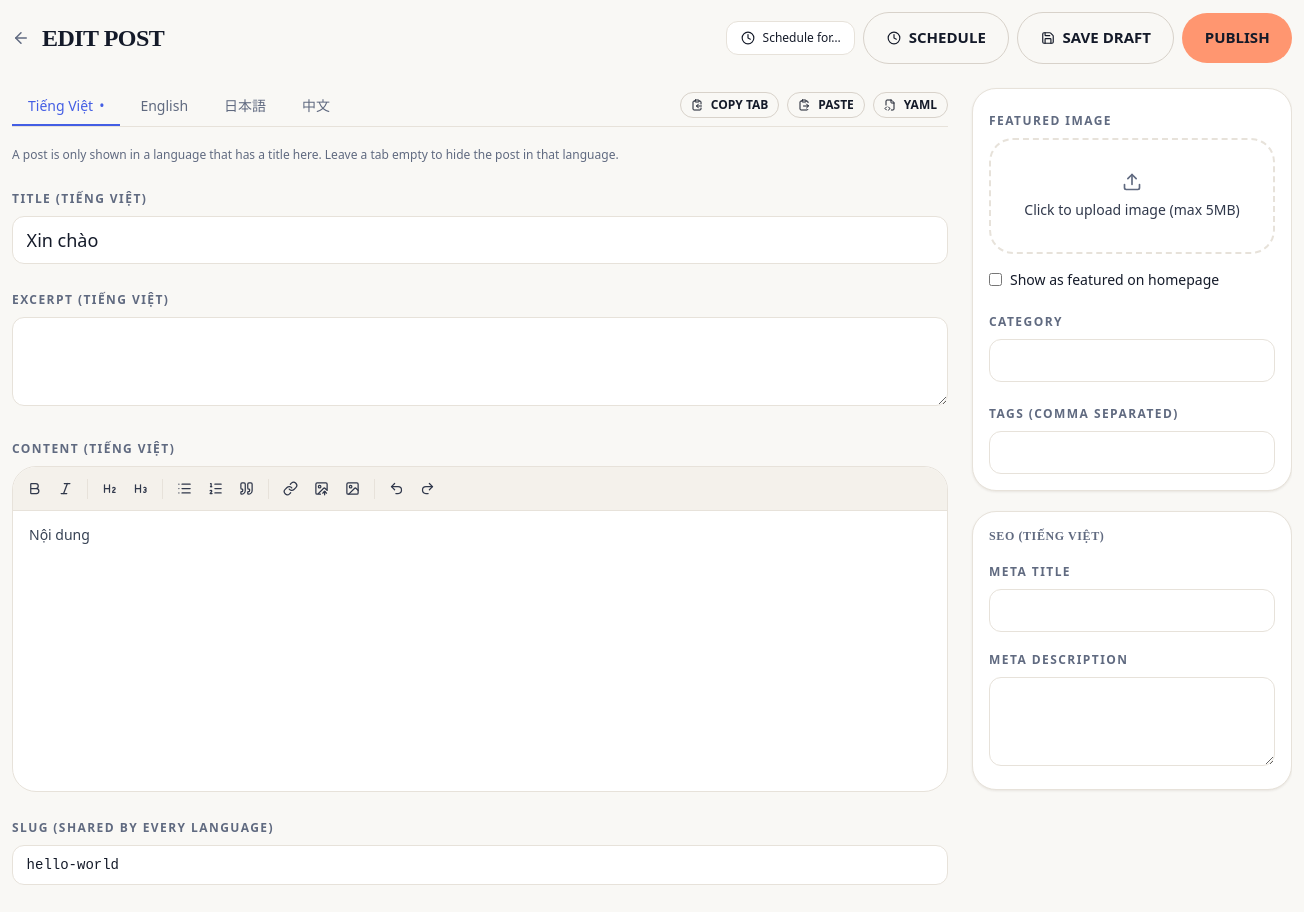
PostEditor scheduling › fills the picker from a quick-pick preset
This screenshot has width=1304, height=912.
Expected: the field labelled "Title (Tiếng Việt)" holds "Xin chào", [12,216,948,264]
What coordinates should you click on to do the following:
click the button with aria-label "choose publish time"
I would click on:
 (791, 38)
Its box is [726,21,855,55].
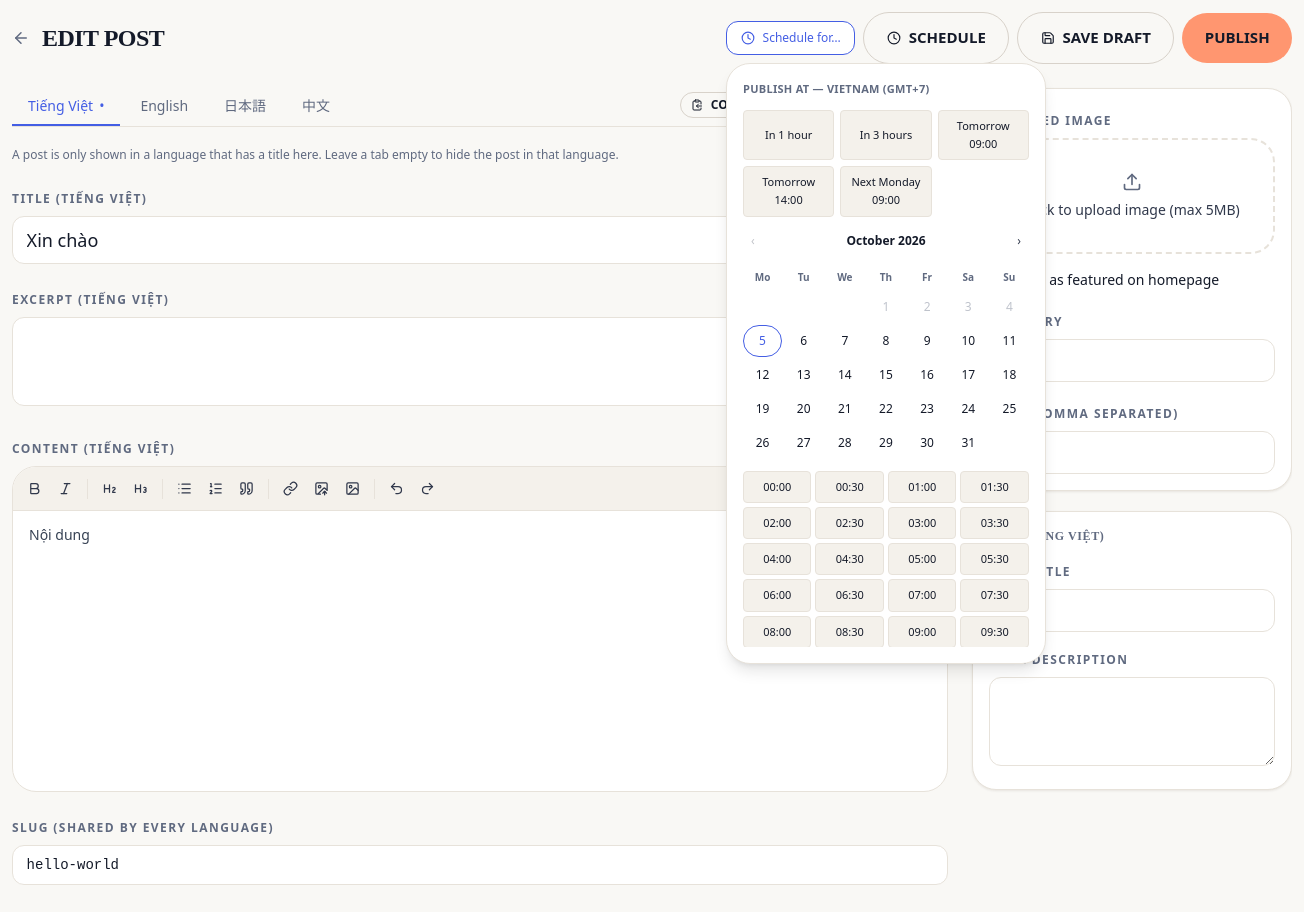
What coordinates should you click on to do the following:
click the button "Tomorrow 09:00"
I would click on:
 (983, 135)
Its box is [938,110,1029,160].
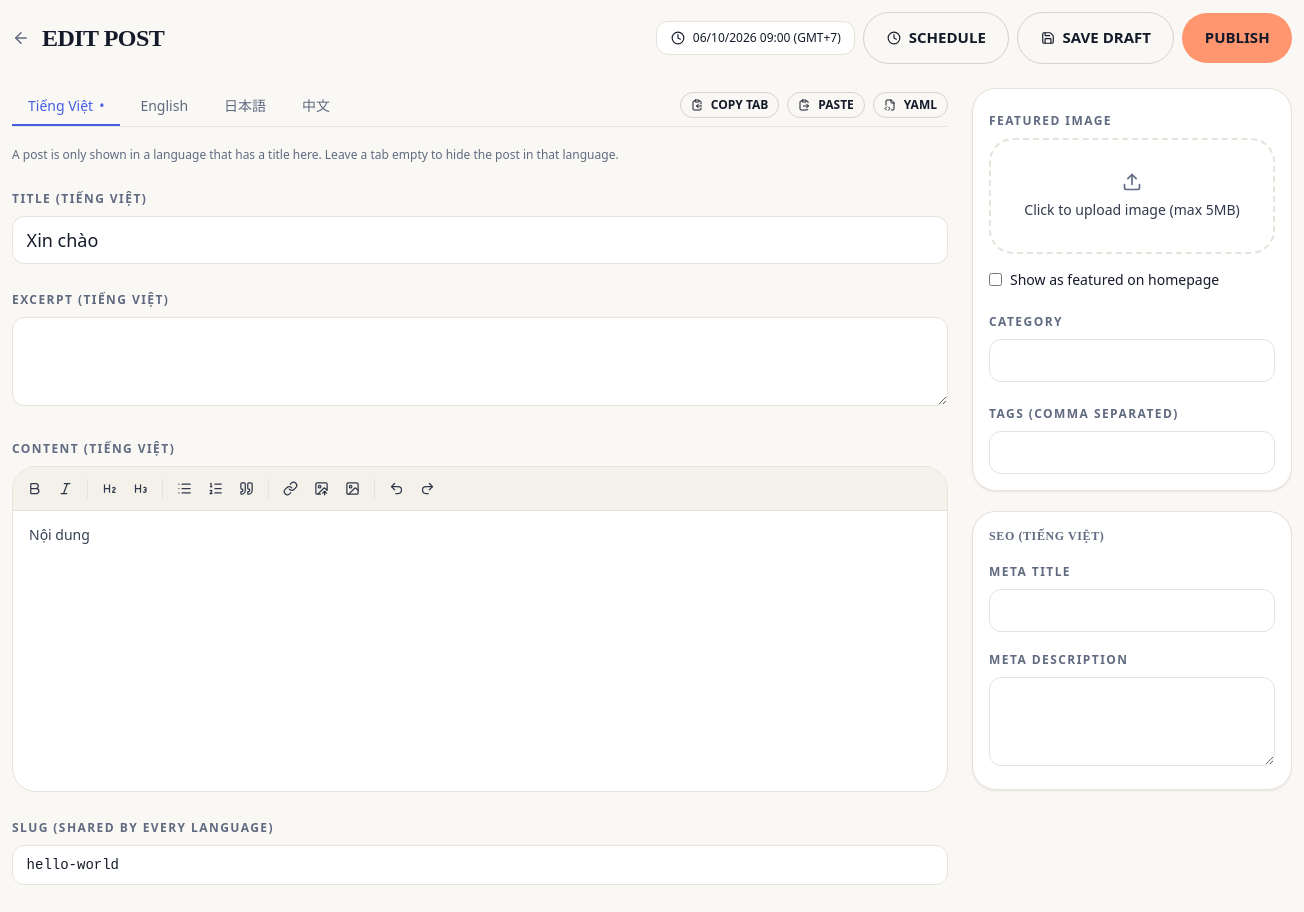
Expected: the button with aria-label "choose publish time" reads "06/10/2026 09:00 (GMT+7)", [656,21,855,55]
